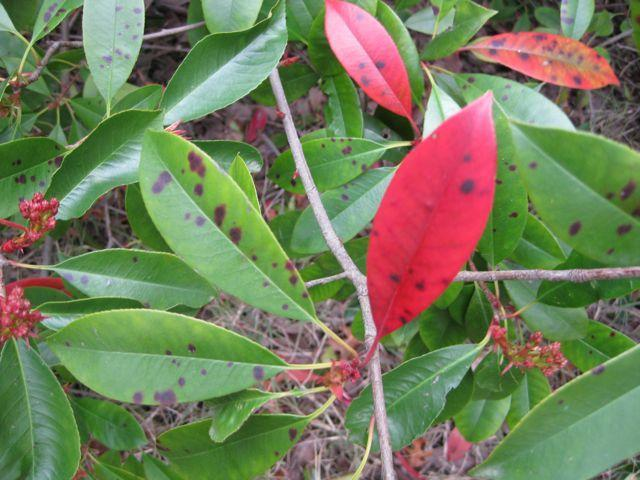black-spot: (151, 151, 236, 245)
